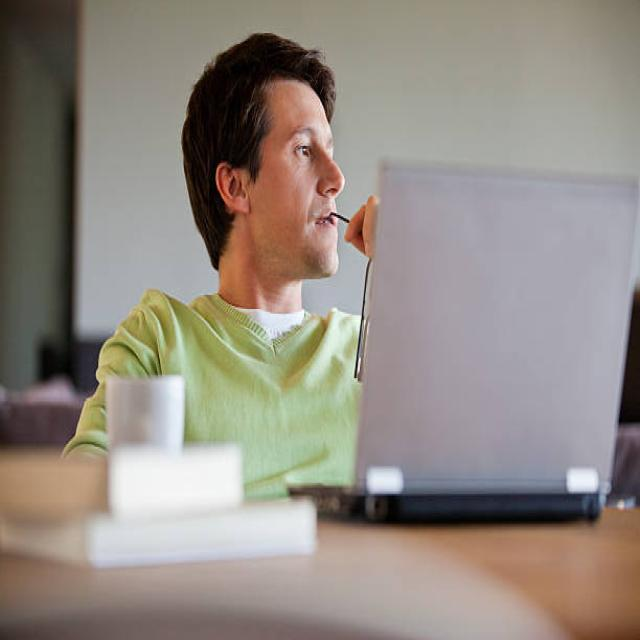Looking away: (262, 82, 344, 280)
